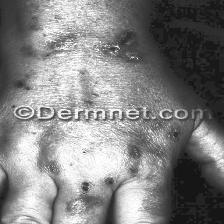Benign Marking or Mole: (105, 28, 141, 61), (14, 81, 33, 92), (81, 180, 92, 192), (104, 178, 114, 186)
